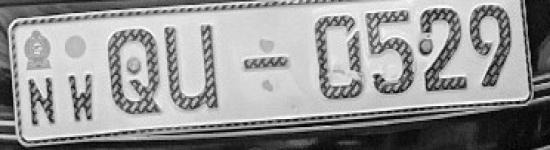-: (233, 46, 301, 76)
0: (307, 10, 365, 104)
2: (417, 3, 468, 98)
5: (364, 5, 416, 98)
9: (468, 2, 518, 94)
N: (24, 73, 63, 128)
Q: (103, 23, 165, 119)
U: (163, 18, 227, 113)
W: (65, 69, 99, 127)
